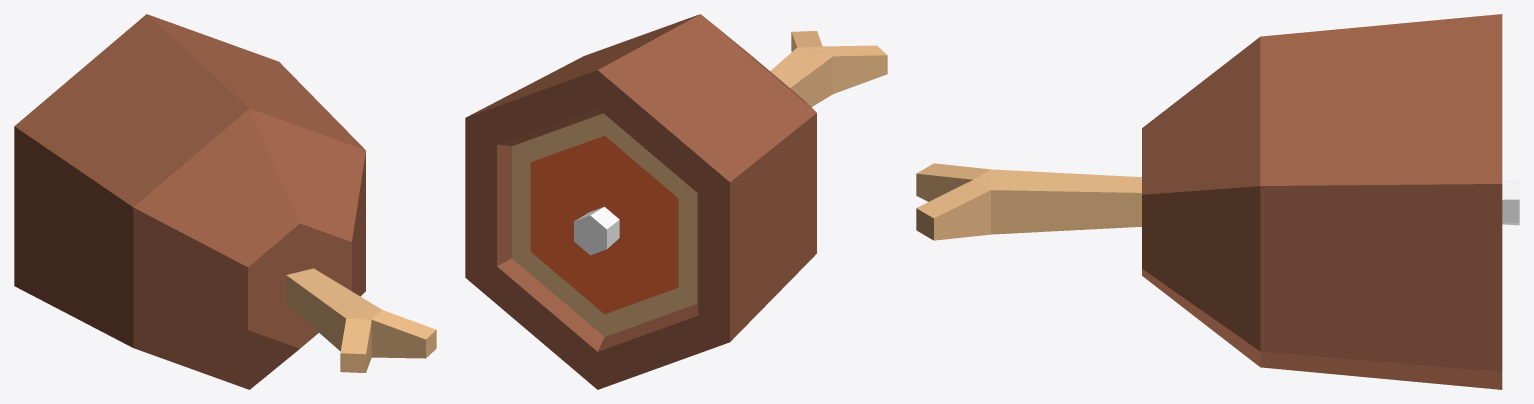
File: wholeHam.obj
3 views of the same model, side by side, from view 1: azimuth 30°, elevation 25°; view 2: azimuth 150°, elevation 25°; view 3: azimuth 270°, elevation 25° (orthographic). The views are drawn at different scales.
Parts seen in each view (by area): view 1: wholeHam; view 2: wholeHam; view 3: wholeHam.
Boxes of the visible parts, x1,y1,x2,y2 form: wholeHam: [14, 14, 436, 389]; wholeHam: [465, 14, 887, 389]; wholeHam: [916, 14, 1519, 389].
Bounding box in the file's own units: 0.3809 × 0.4399 × 0.6397.
